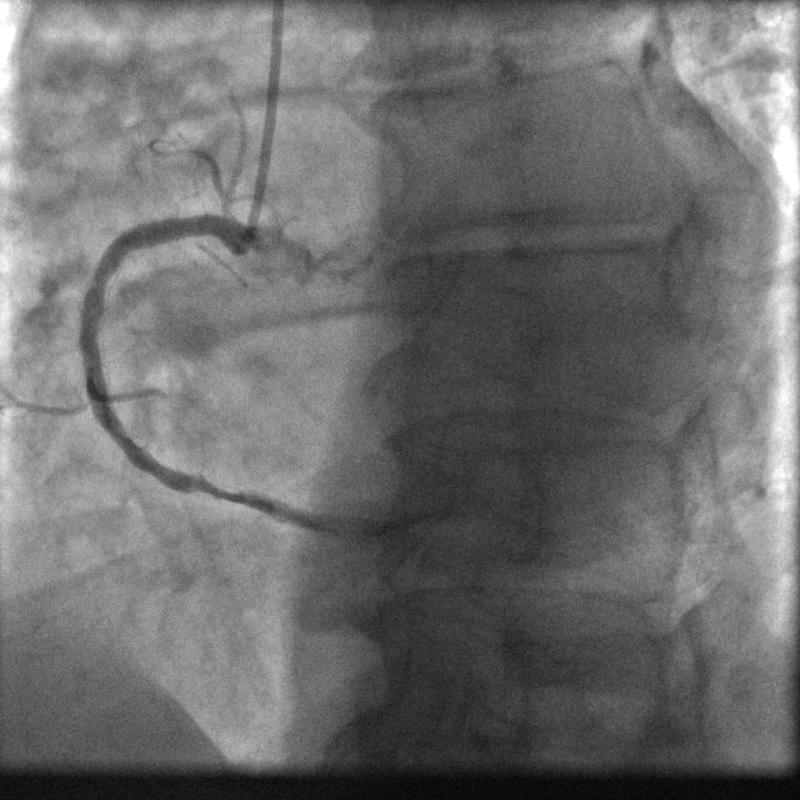Stenosis: (186, 468, 250, 507)
